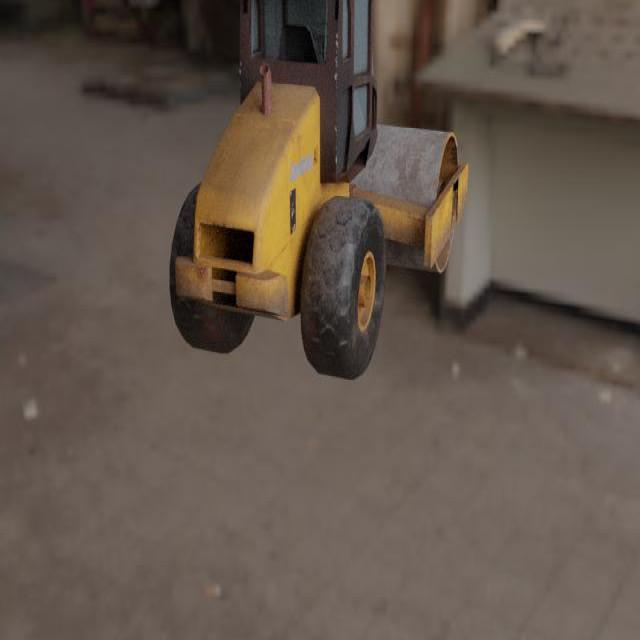Roller: (168, 0, 468, 381)
